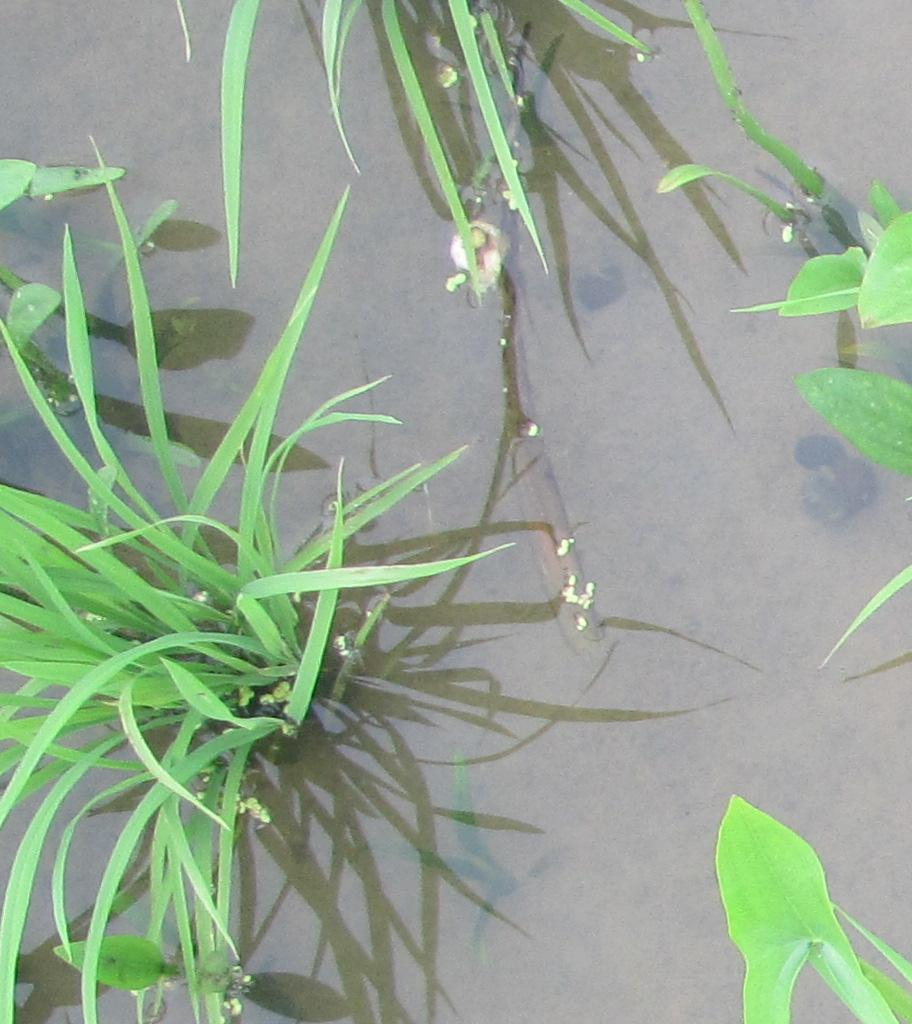Weed: (711, 786, 899, 1024), (775, 205, 912, 484)
